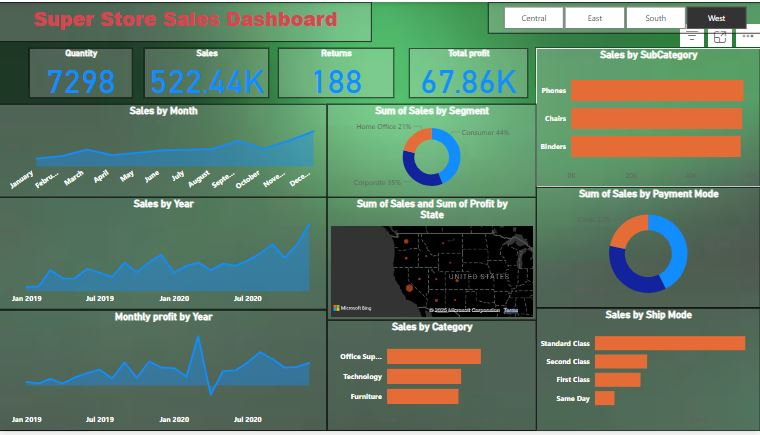

This screenshot's page, from the dashboard's own definition file:
{"tool":"powerbi","page":{"name":"Page 1","canvas":[1280,720],"ordinal":0},"visuals":[{"type":"clusteredBarChart","title":"Sales by Category","fields":{"Category":["Sheet1.Category"],"Y":["Sum(Sheet1.Sales)"]},"box":[551.3,534.2,351.6,186],"z":0},{"type":"clusteredBarChart","title":"Sales by  SubCategory","fields":{"Y":["Sum(Sheet1.Sales)"],"Category":["Sheet1.Sub-Category"]},"box":[902.8,76.8,377.2,233.8],"z":1000},{"type":"clusteredBarChart","title":"Sales by Ship Mode","fields":{"Y":["Sum(Sheet1.Sales)"],"Category":["Sheet1.Ship Mode"]},"box":[902.8,513.7,377.2,206.5],"z":2000},{"type":"stackedAreaChart","title":" Sales by Month","fields":{"Category":["Sheet1.Order Date.Variation.Date Hierarchy.Month","Sheet1.Order Date.Variation.Date Hierarchy.Day"],"Y":["Sum(Sheet1.Sales)"]},"box":[0,170.7,551.3,157],"z":3000},{"type":"stackedAreaChart","title":" Sales by Year","fields":{"Y":["Sum(Sheet1.Sales)"],"Category":["Sheet1.Order Date.Variation.Date Hierarchy.Year","Sheet1.Order Date.Variation.Date Hierarchy.Month"]},"box":[0,327.7,551.3,189.4],"z":4000},{"type":"stackedAreaChart","title":"Monthly profit by Year","fields":{"Category":["Sheet1.Order Date.Variation.Date Hierarchy.Year","Sheet1.Order Date.Variation.Date Hierarchy.Month"],"Y":["Sum(Sheet1.Profit)"]},"box":[0,517.1,551.3,203.1],"z":5000},{"type":"map","fields":{"Category":["Sheet1.State"],"Size":["Sum(Sheet1.Sales)"]},"box":[551.3,327.7,351.6,206.5],"z":6000},{"type":"donutChart","fields":{"Category":["Sheet1.Segment"],"Y":["Sum(Sheet1.Sales)"]},"box":[551.3,170.7,351.6,157],"z":7000},{"type":"donutChart","fields":{"Y":["Sum(Sheet1.Sales)"],"Category":["Sheet1.Payment Mode"]},"box":[902.8,310.6,377.2,203.1],"z":8000},{"type":"slicer","fields":{"Values":["Sheet1.Region"]},"box":[820.9,0,459.1,52.9],"z":9000},{"type":"textbox","box":[0,0,626.3,66.6],"z":10000},{"type":"card","title":"Sales","fields":{"Values":["Sum(Sheet1.Sales)"]},"box":[244.1,76.8,209.9,83.6],"z":11000},{"type":"card","title":"Quantity","fields":{"Values":["Sum(Sheet1.Quantity)"]},"box":[51.2,76.8,174.1,83.6],"z":11001},{"type":"card","title":"Returns","fields":{"Values":["CountNonNull(Sheet1.Returns)"]},"box":[469.3,76.8,194.6,83.6],"z":11002},{"type":"card","title":"Total profit","fields":{"Values":["Sheet1.Total profit"]},"box":[689.5,76.8,199.7,83.6],"z":11003}]}

Visuals, with their boxes in screenshot pixels (x1, y1, x2, y2), scaled from the page's 1280x720 canvas onto the 760x435 screenshot:
"Sales by Category" clusteredBarChart: 327:323:536:434
"Sales by  SubCategory" clusteredBarChart: 536:46:759:188
"Sales by Ship Mode" clusteredBarChart: 536:310:759:434
" Sales by Month" stackedAreaChart: 0:103:327:198
" Sales by Year" stackedAreaChart: 0:198:327:312
"Monthly profit by Year" stackedAreaChart: 0:312:327:434
map - Sheet1.State x Sum(Sheet1.Sales): 327:198:536:323
donutChart - Sheet1.Segment x Sum(Sheet1.Sales): 327:103:536:198
donutChart - Sum(Sheet1.Sales) x Sheet1.Payment Mode: 536:188:759:310
slicer - Sheet1.Region: 487:0:759:32
textbox: 0:0:372:40
"Sales" card: 145:46:270:97
"Quantity" card: 30:46:134:97
"Returns" card: 279:46:394:97
"Total profit" card: 409:46:528:97
